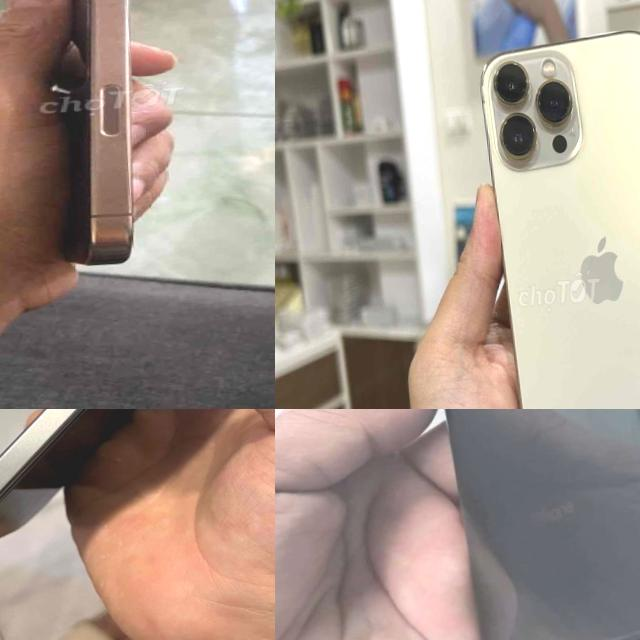scratch: (535, 625, 640, 640)
